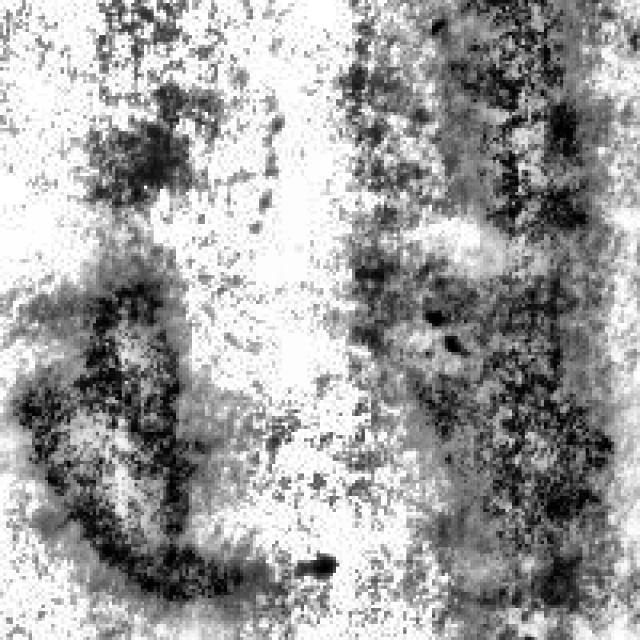Scratches: (7, 240, 250, 611), (394, 250, 612, 620), (420, 0, 604, 272)
